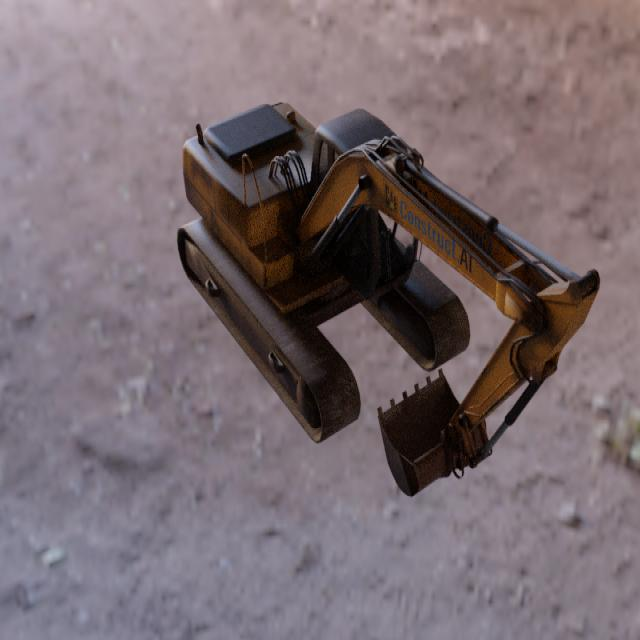excavator: (176, 101, 600, 498)
